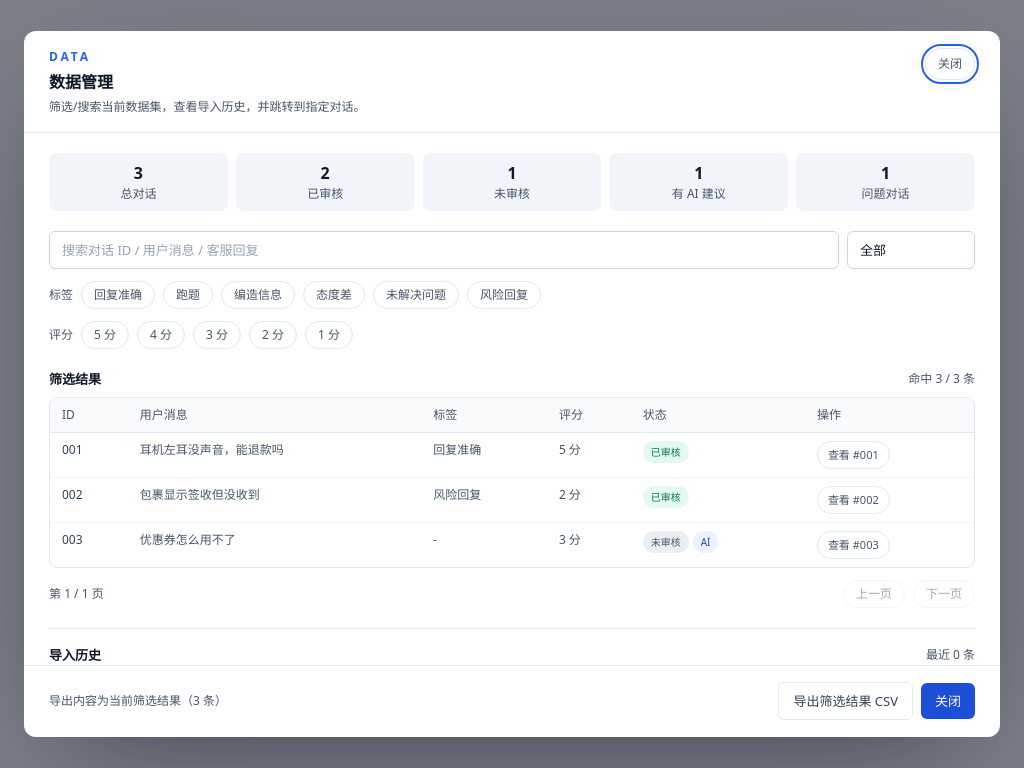
Test: DataManagerPanel 筛选 › 标签与评分筛选可组合，点击清空恢复全部
This screenshot has width=1024, height=768.
What coordinates should you click on to do the following:
click the button "风险回复"
I would click on:
 (504, 295)
Its box is [467,281,541,309].
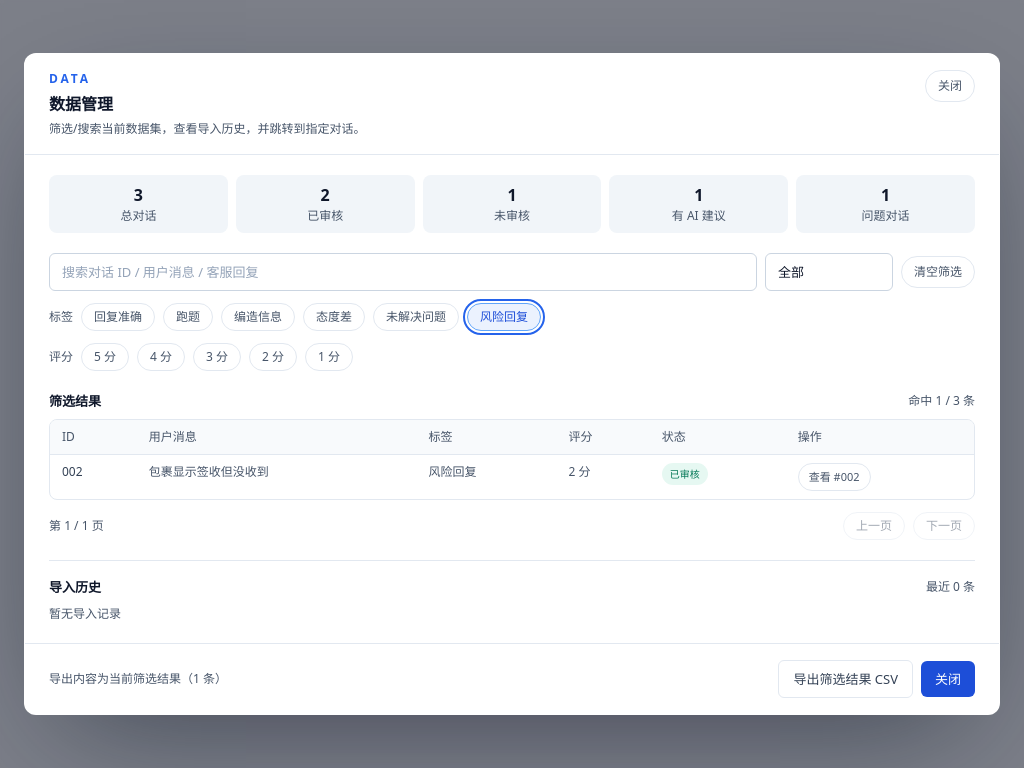
What coordinates should you click on to do the following:
click the button "2 分"
I would click on:
 (273, 357)
Its box is [249,343,297,371].
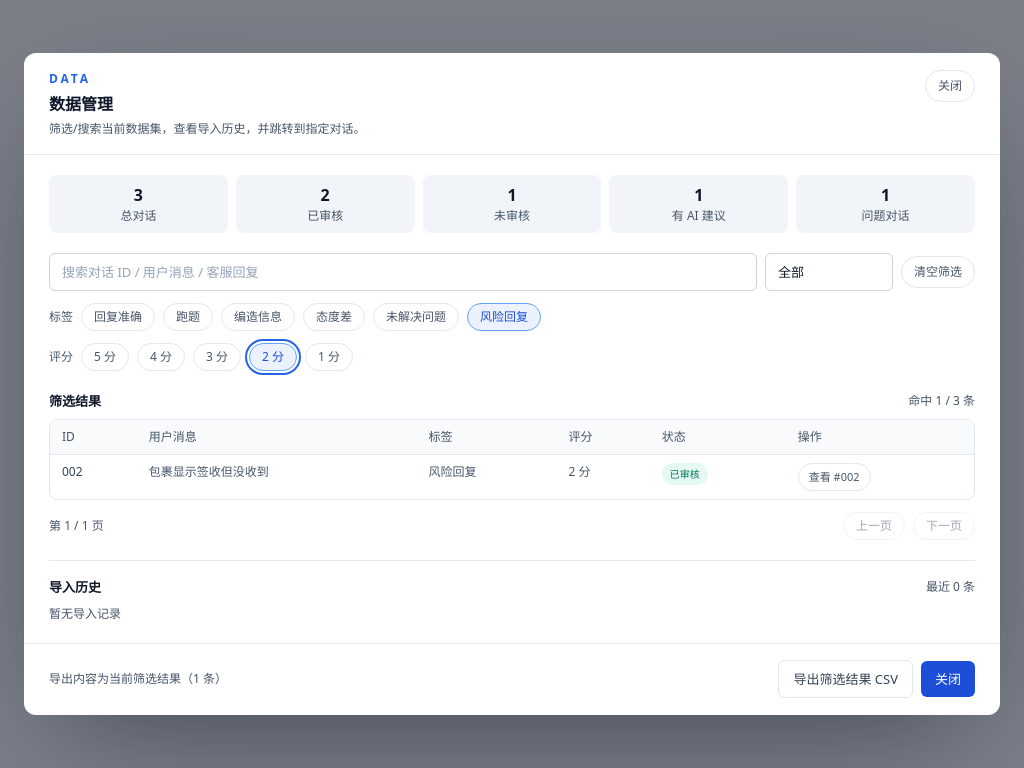
Expected: the button "查看 #002" is shown, [798,463,871,491]
Now the text "命中 1 / 3 条" is shown, box [908,392,975,410]
What coordinates should you click on to do the following:
click the button "清空筛选"
I would click on:
 (938, 272)
Its box is [901,256,975,288].
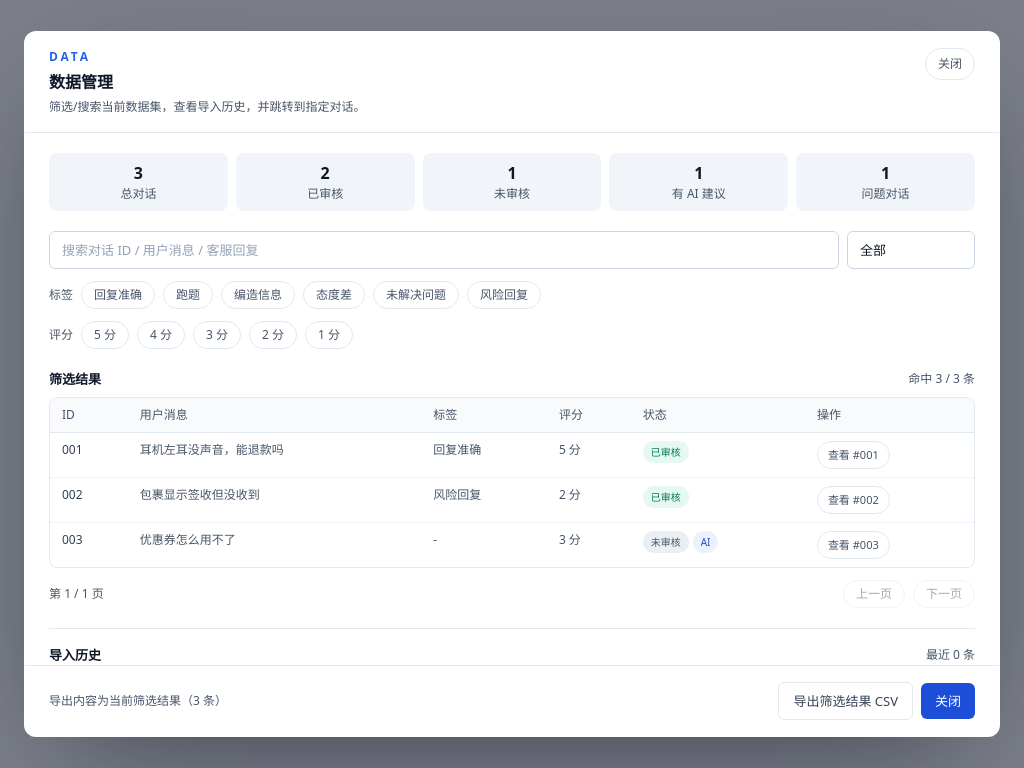
Now the text "命中 3 / 3 条" is shown, box [908,370,975,388]
